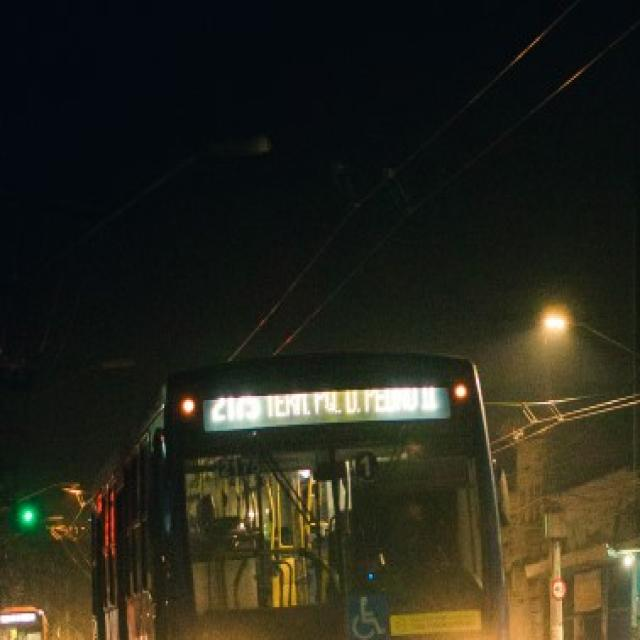bus: (84, 351, 510, 640), (0, 603, 47, 640)
car: (601, 638, 640, 640)
